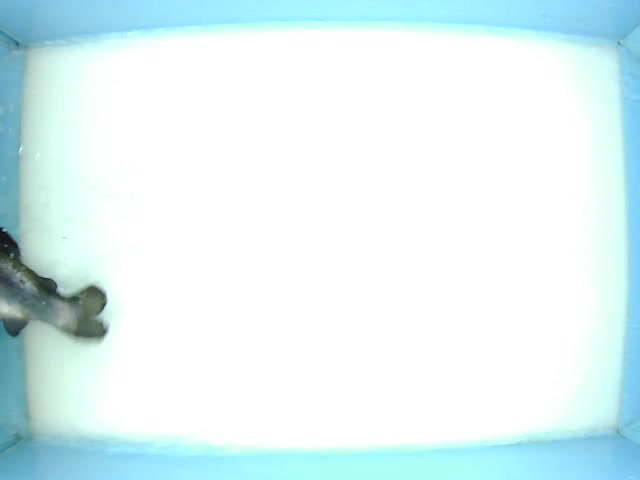fish: (1, 235, 141, 339)
